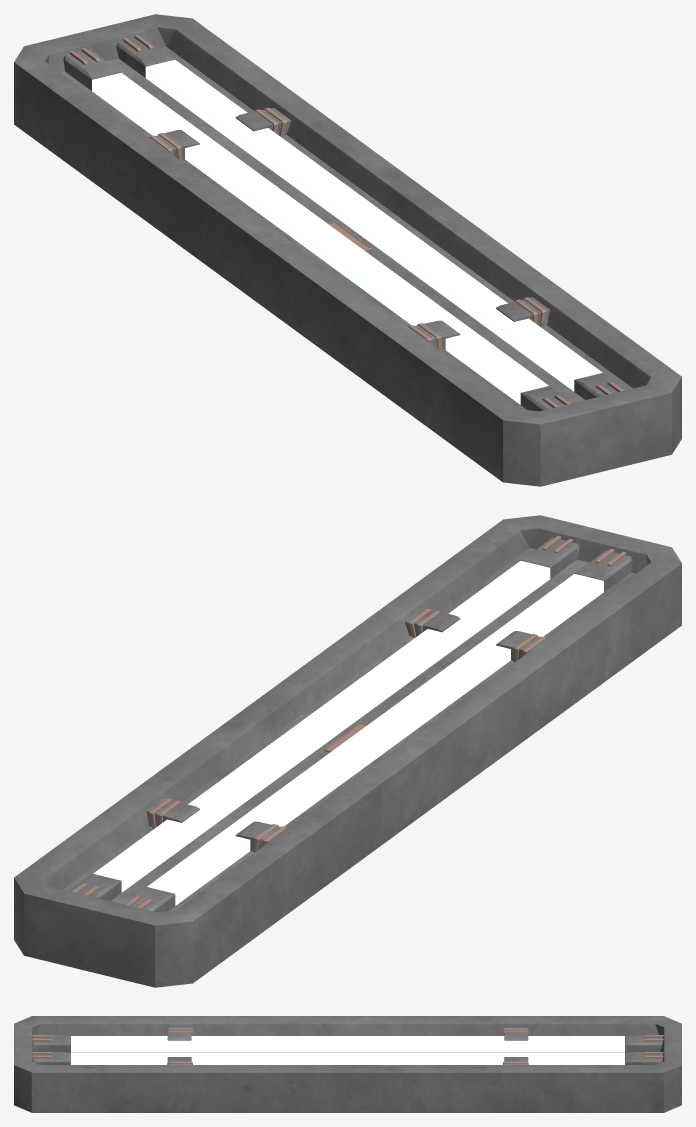
The picture shows the model from 3 angles, top to bottom: view 1: azimuth 30°, elevation 25°; view 2: azimuth 150°, elevation 25°; view 3: azimuth 270°, elevation 25°; orthographic projection. The views are drawn at different scales.
Parts seen in each view (by area): view 1: CeilingLight_Frame_0, CeilingLight_Light_0, CeilingLight_Protrustions_0; view 2: CeilingLight_Frame_0, CeilingLight_Light_0, CeilingLight_Protrustions_0; view 3: CeilingLight_Frame_0, CeilingLight_Light_0, CeilingLight_Protrustions_0.
Boxes of the visible parts, bbox=[...] form: CeilingLight_Frame_0: bbox=[14, 14, 681, 486]; CeilingLight_Light_0: bbox=[92, 59, 602, 404]; CeilingLight_Protrustions_0: bbox=[69, 35, 623, 407]; CeilingLight_Frame_0: bbox=[14, 515, 681, 987]; CeilingLight_Light_0: bbox=[93, 560, 603, 905]; CeilingLight_Protrustions_0: bbox=[72, 536, 626, 908]; CeilingLight_Frame_0: bbox=[14, 1016, 681, 1112]; CeilingLight_Light_0: bbox=[71, 1036, 624, 1064]; CeilingLight_Protrustions_0: bbox=[32, 1028, 663, 1064].
Size of the model in its own units: 0.3 by 0.1 by 1.5.
4 materials, 3 textured.
